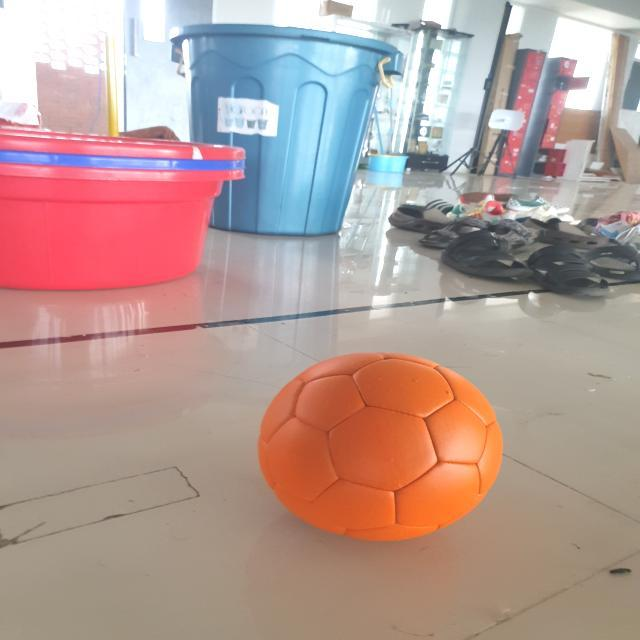bola: (250, 346, 516, 554)
